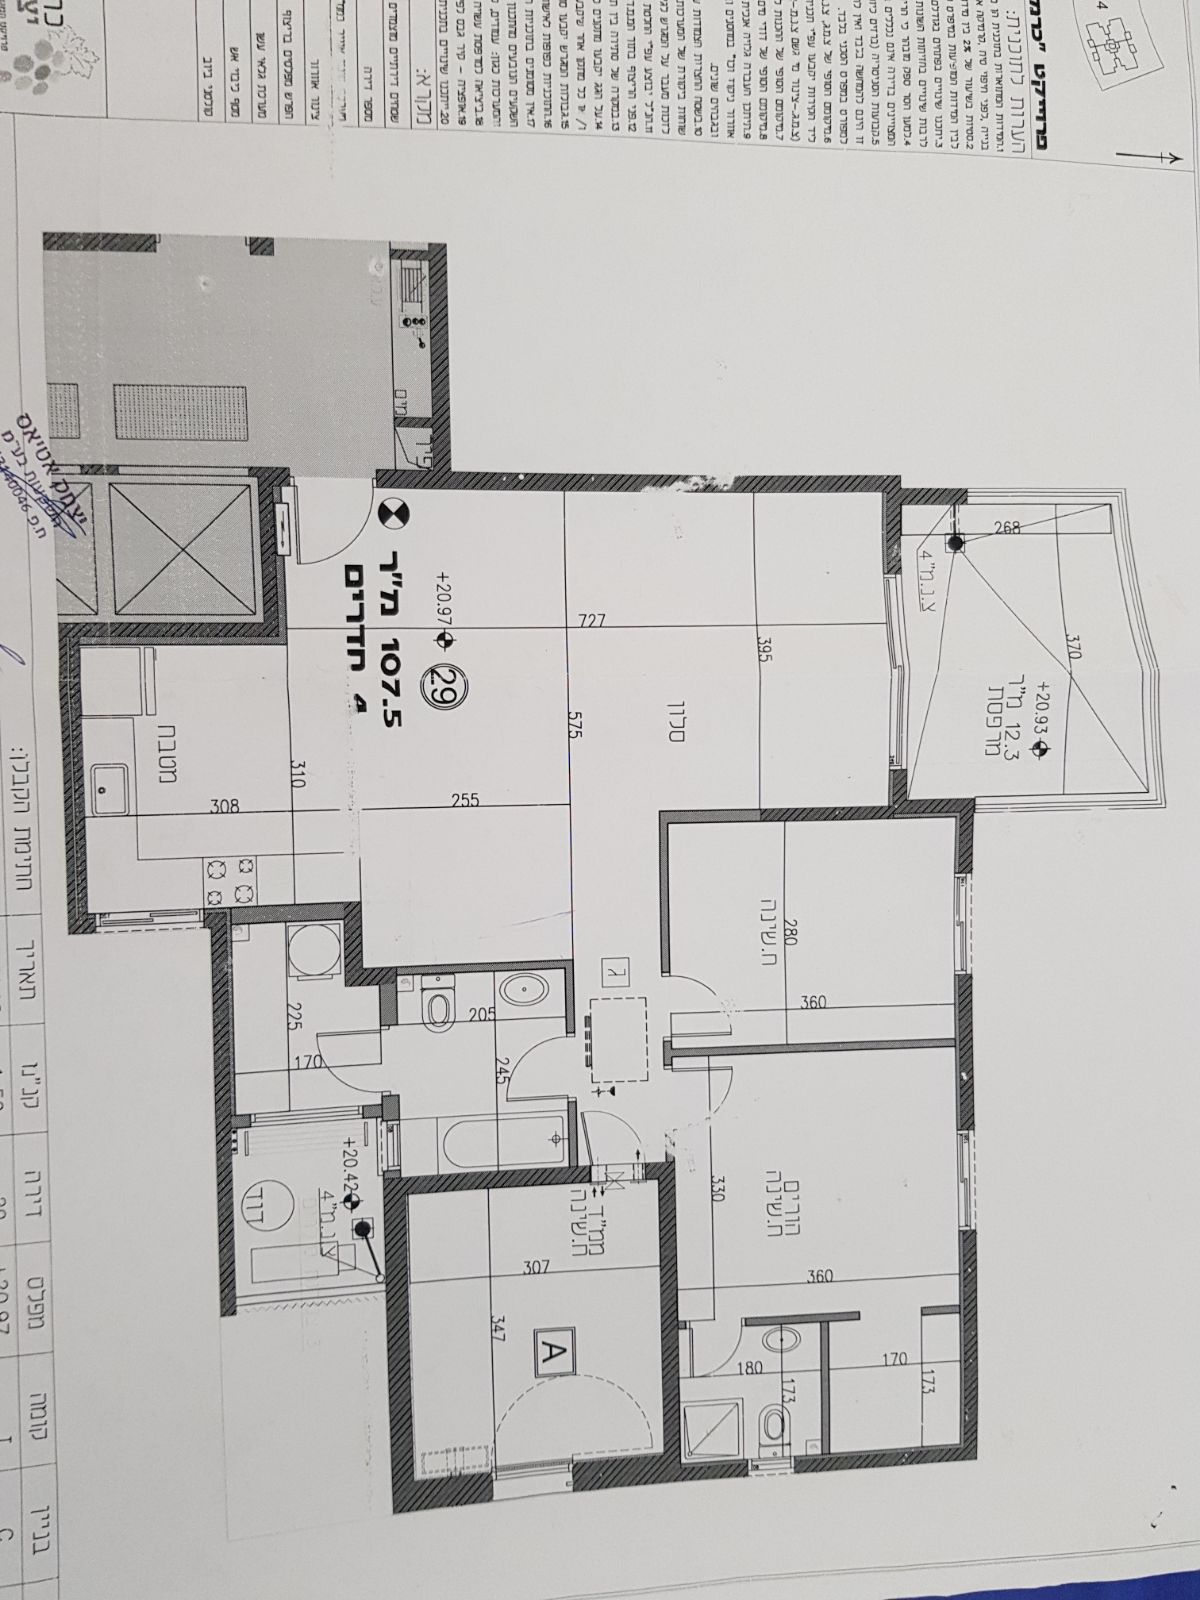door: (304, 1031, 403, 1097), (503, 1034, 582, 1105)
wall: (379, 1175, 487, 1516), (376, 466, 560, 499), (955, 985, 978, 1121)
window: (884, 573, 908, 770), (96, 901, 203, 939), (945, 876, 977, 978)
